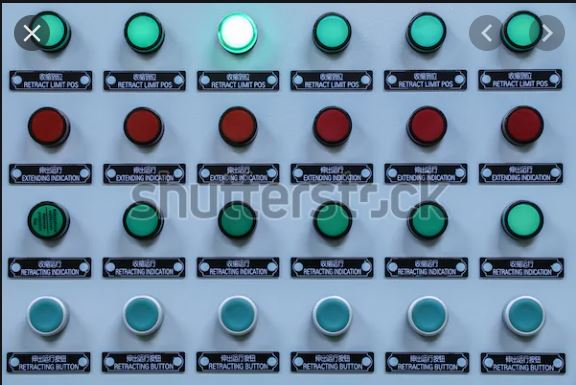Blue_Led_Off: (21, 294, 75, 339), (501, 293, 550, 341), (405, 293, 453, 341), (310, 294, 358, 340), (118, 293, 167, 337), (216, 294, 260, 337)
Green_Led_Off: (120, 198, 168, 246), (403, 199, 454, 244), (121, 8, 168, 56), (24, 198, 72, 244), (499, 196, 548, 241), (501, 9, 546, 56), (404, 9, 449, 54), (310, 9, 354, 54), (215, 196, 259, 241), (27, 9, 74, 51), (311, 199, 358, 241)
Green_Led_On: (211, 11, 264, 55)
Red_Led_Off: (213, 102, 263, 149), (120, 105, 167, 152), (503, 103, 547, 149), (26, 103, 70, 148), (406, 106, 449, 150), (310, 105, 354, 147)
